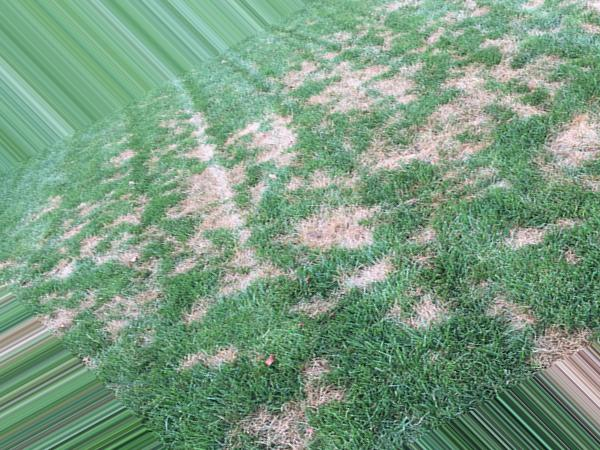patch: (170, 152, 288, 243), (385, 68, 477, 175), (362, 262, 448, 332), (480, 49, 558, 126), (236, 376, 340, 429), (531, 118, 585, 217), (190, 260, 302, 307), (309, 53, 398, 102), (483, 274, 545, 335), (95, 237, 163, 292), (303, 202, 370, 252), (184, 341, 251, 368)
